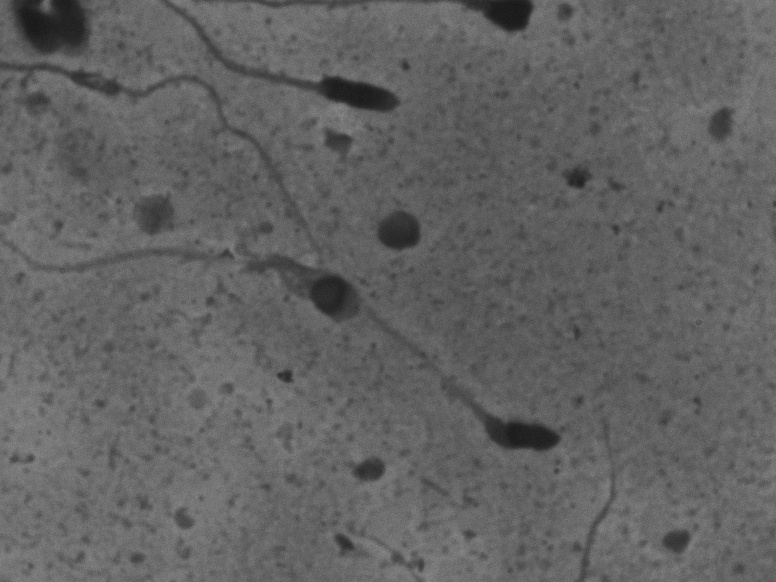Abnormal: (25, 202, 366, 359), (375, 285, 583, 481), (172, 7, 431, 116)
